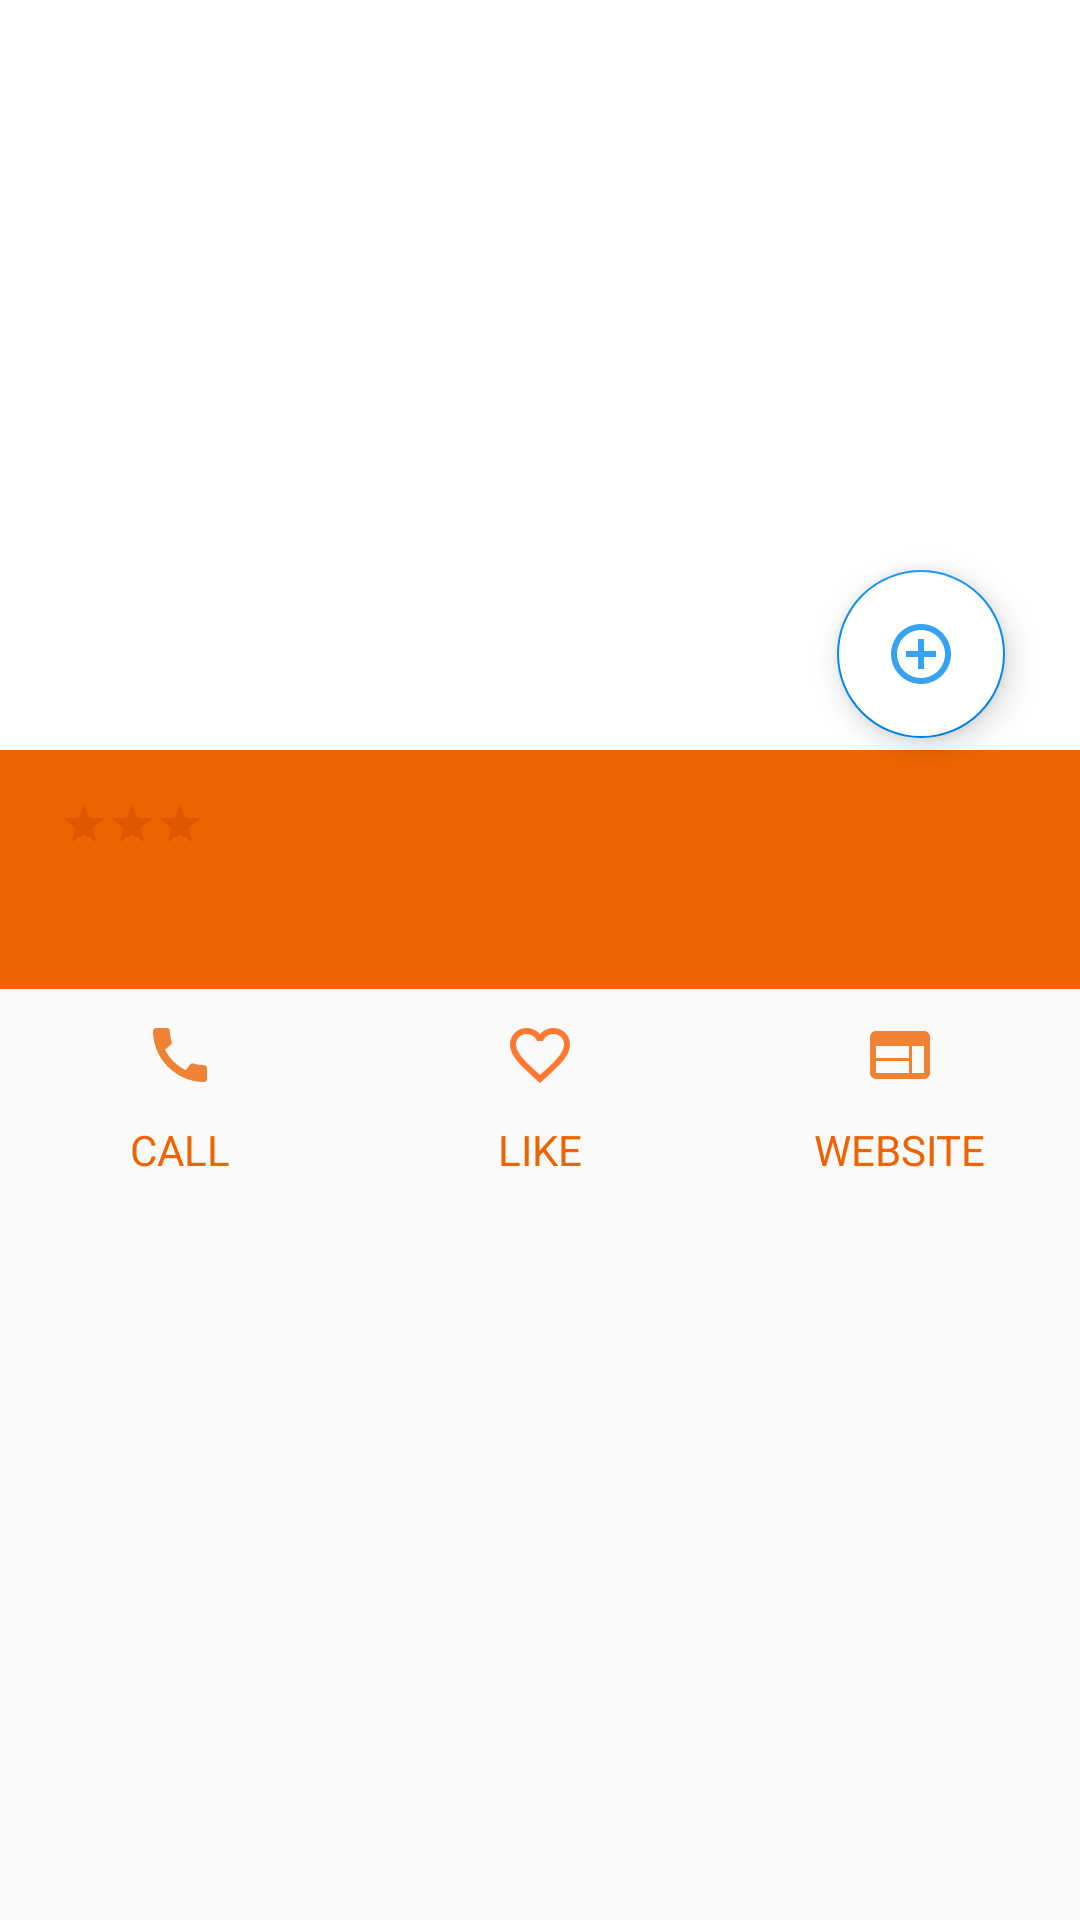

Named icons in this screenshot (1080px×1920px) and their bounding boxes, (x1, y1, x2, y2):
favorite false: (510, 1028, 570, 1083)
phone: (153, 1028, 207, 1082)
web: (870, 1031, 930, 1079)
